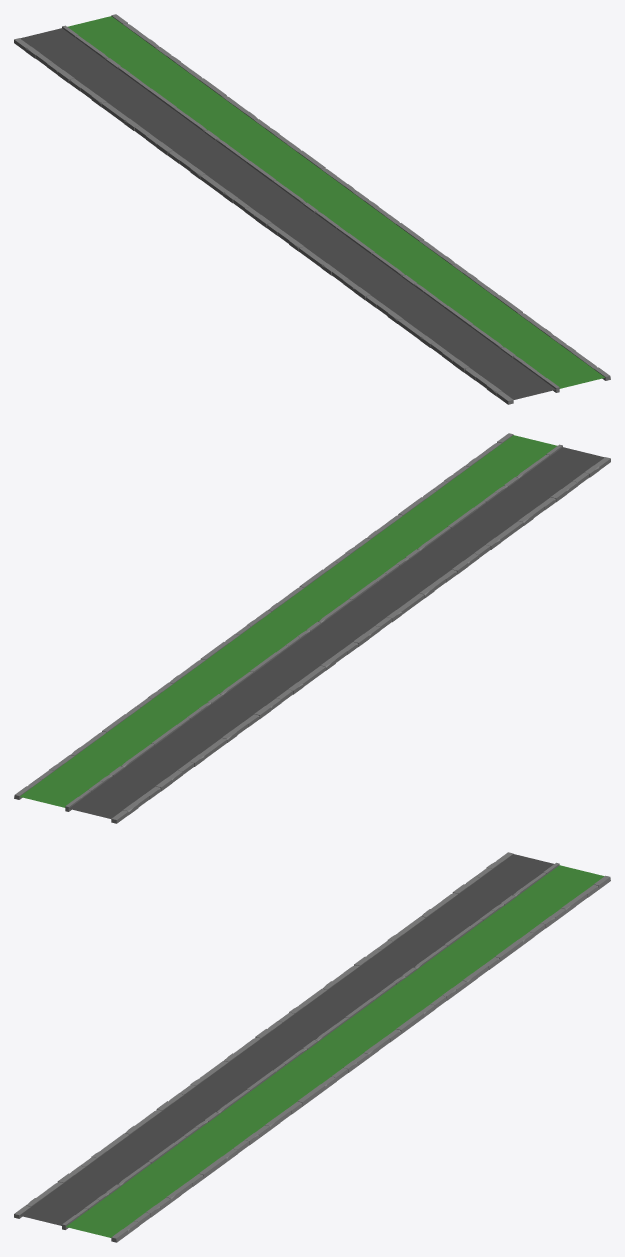
File: SM_pedestrian_walk_suburbs_05.fbx
The picture shows the model from 3 angles, top to bottom: view 1: azimuth 30°, elevation 25°; view 2: azimuth 150°, elevation 25°; view 3: azimuth 330°, elevation 25°; orthographic projection.
Parts seen in each view (by area): view 1: Box5975; view 2: Box5975; view 3: Box5975.
Boxes of the visible parts, x1,y1,x2,y2 form: Box5975: (14, 14, 610, 404); Box5975: (14, 433, 610, 823); Box5975: (14, 852, 610, 1242).
Size of the model in its own units: 211 by 9.66 by 1750.
